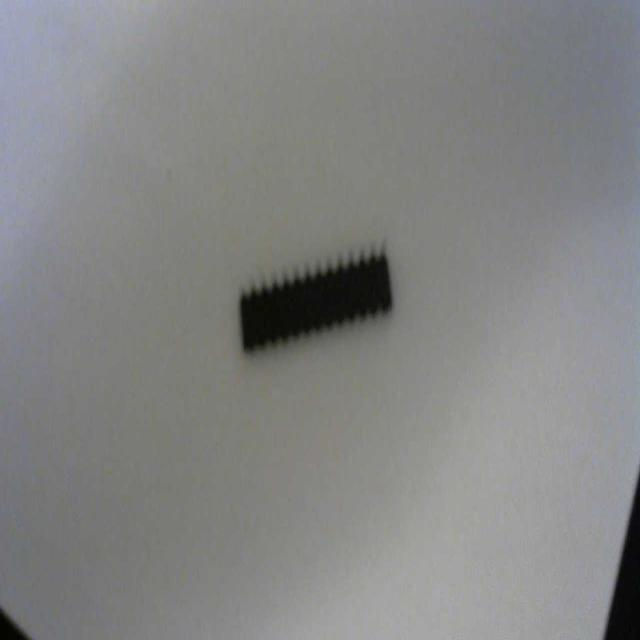atmega: (236, 238, 395, 359)
